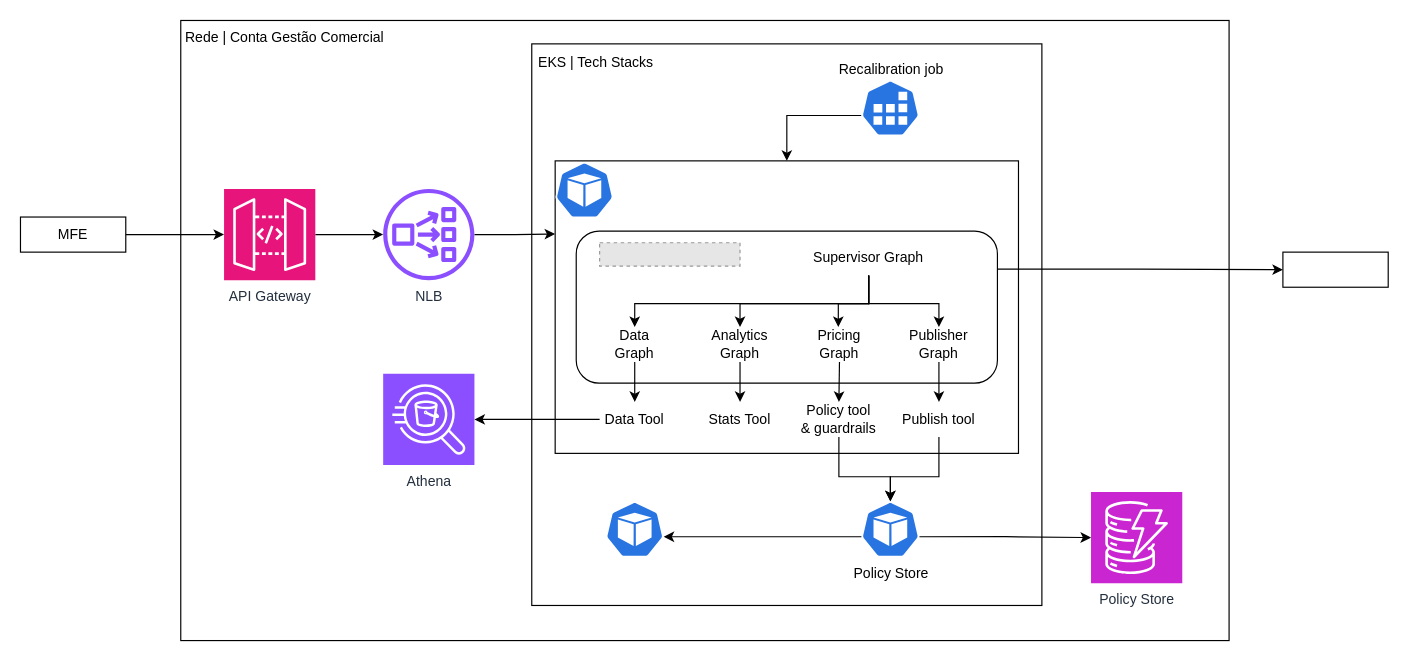
The diagram is 1409 pixels wide and 661 high, and some of its shapes have lost their labels. Grey dashed boxes stand in for pictures. Here are the shapes that lost their labels. From the top down, the centre of each, then its label:
At pixel 584 189: "Pricing Agent Service".
At pixel 1335 269: "IARA".
At pixel 634 529: "Motor de preços".
